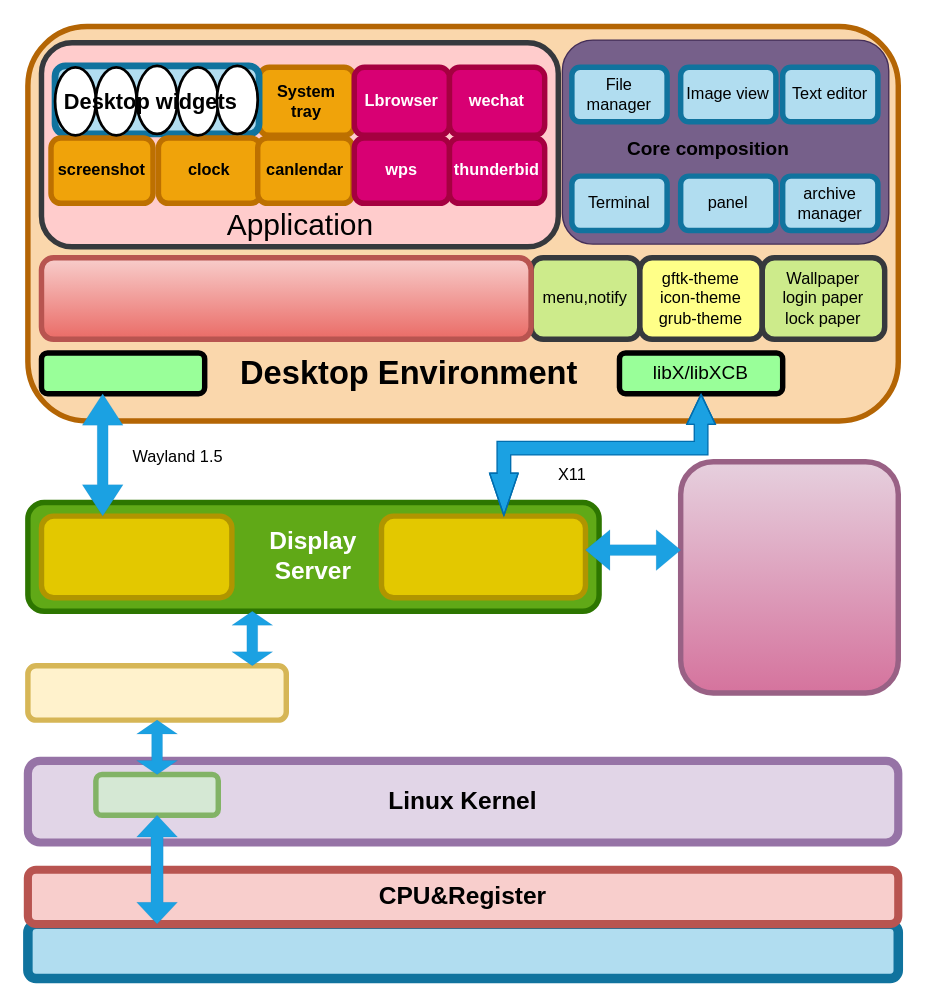
The diagram is 926 pixels wide and 1006 high, and some of its shapes have lost their labels. Each missing label, with the centre of its shape:
"desktop,launcher,control-centrr,dock" goes at [285,297].
"DRM" goes at [156,794].
"GPU&Register" goes at [462,951].
"LibDRM" goes at [156,692].
"libwayland-client" goes at [122,373].
"Wayland compositor" goes at [136,556].
"Windows manager Kwin Compiz OpenBox Marco Mutter Metacity" goes at [788,576].
"X-Server(X.Org)" goes at [483,556].
